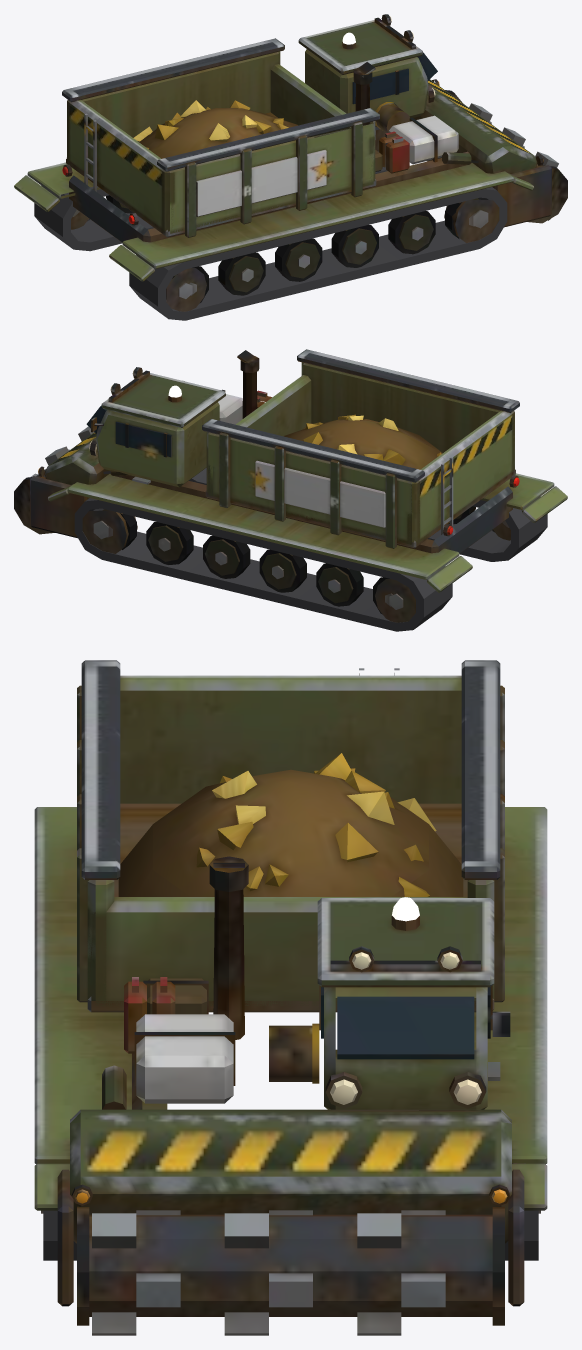
The model's file is harv.soviet.glb.
3 views of the same model, one above another, from view 1: azimuth 30°, elevation 25°; view 2: azimuth 150°, elevation 25°; view 3: azimuth 270°, elevation 25° (orthographic). The views are drawn at different scales.
Parts seen in each view (by area): view 1: root_mesh, ore_mesh, drum_mesh; view 2: root_mesh, ore_mesh, drum_mesh; view 3: root_mesh, drum_mesh, ore_mesh.
Boxes of the visible parts, left/top/right/bottom form: root_mesh: left=14, top=14, right=551, bottom=320; ore_mesh: left=133, top=100, right=309, bottom=158; drum_mesh: left=445, top=90, right=567, bottom=223; root_mesh: left=30, top=349, right=567, bottom=631; ore_mesh: left=284, top=414, right=442, bottom=469; drum_mesh: left=14, top=426, right=94, bottom=534; root_mesh: left=34, top=660, right=547, bottom=1306; drum_mesh: left=77, top=1206, right=504, bottom=1335; ore_mesh: left=118, top=753, right=463, bottom=896.
Bounding box in the file's own units: 1.15 × 0.4147 × 0.58.
Materials: 3 (1 with a texture image).
